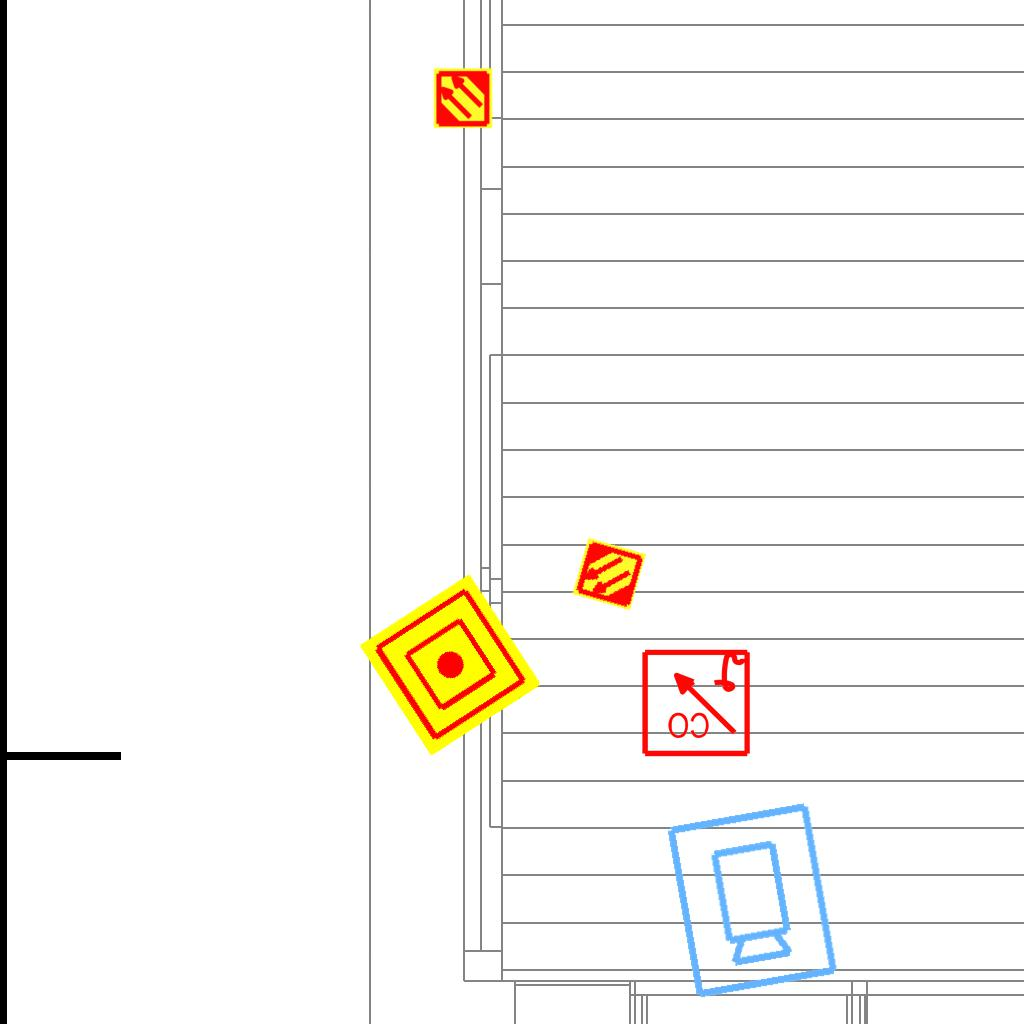ASR_Ansaugrauchmelder: (570, 535, 648, 613), (432, 67, 494, 129)
KFO_Kamera_mit_Festobjektiv: (659, 797, 843, 1003)
NAM-Nichtautomatischer_Melder: (358, 573, 542, 757)
ROA_Rauchmelder_optisch_mit_Signalgeber_(Sockelsirene): (639, 645, 752, 758)
